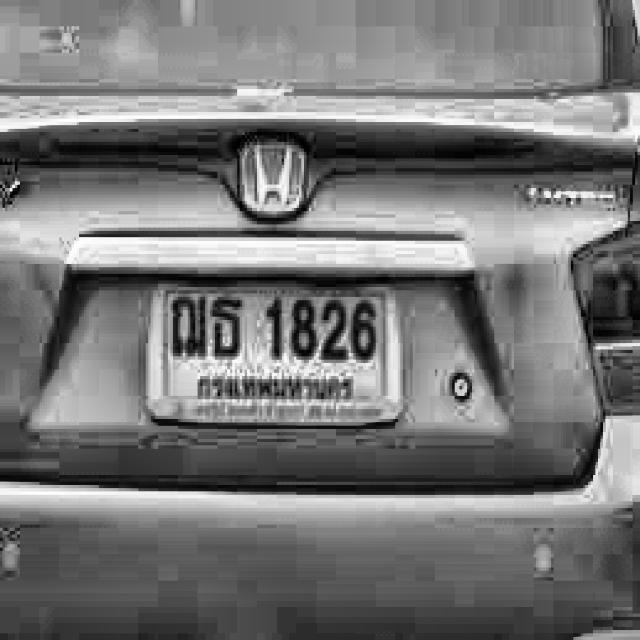license-plate: (128, 255, 435, 459)
